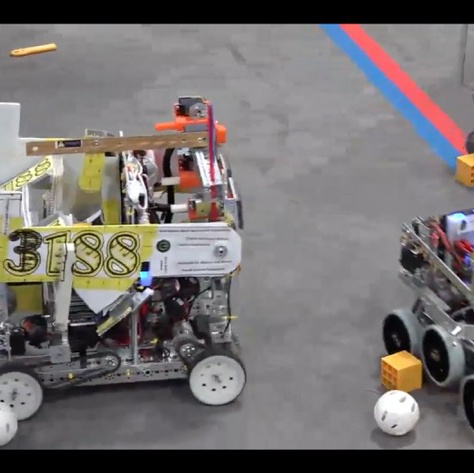robot: (0, 92, 246, 423), (378, 204, 474, 436)
